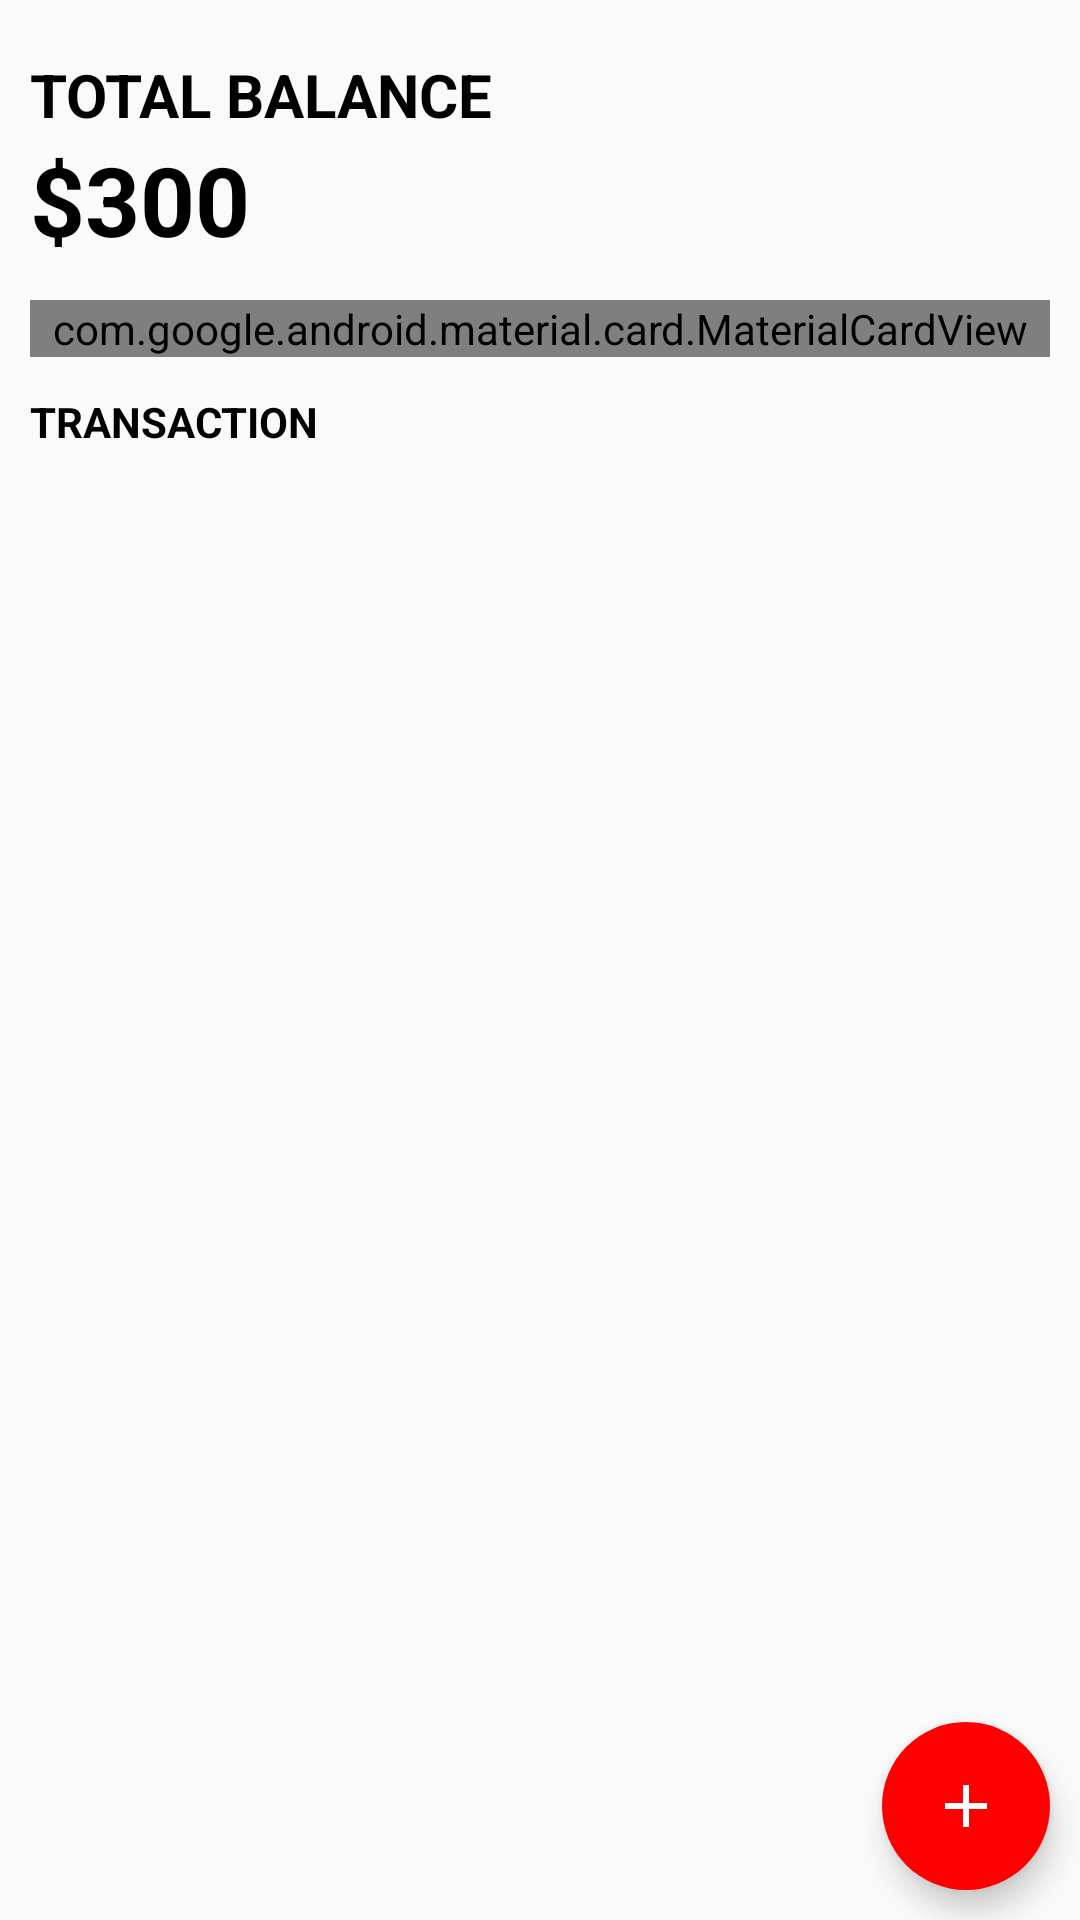

Icons on this 1080 x 1920 Android screen, each with the point to tap as (x=x, y=y):
Add Transaction: (x=966, y=1806)
